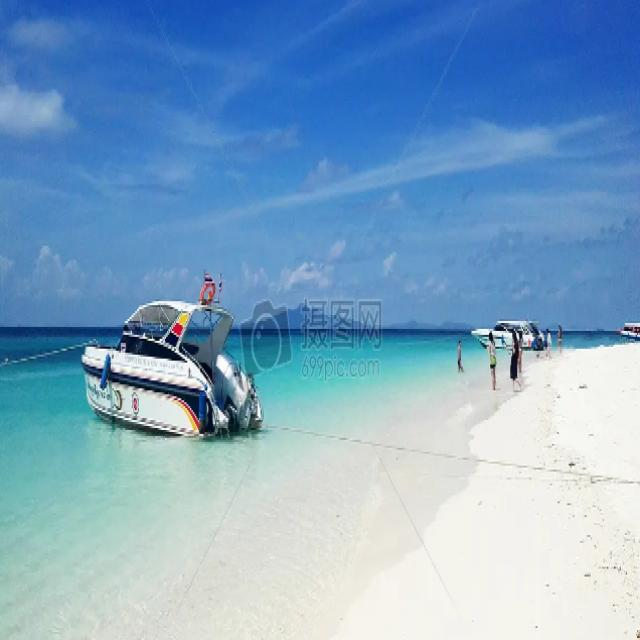houseboat: (80, 289, 265, 443), (468, 306, 552, 356), (611, 315, 640, 339)
